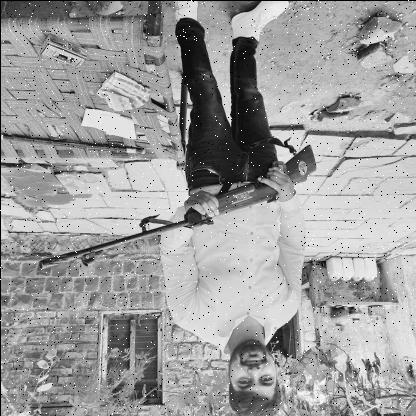rifle: (35, 141, 318, 271)
